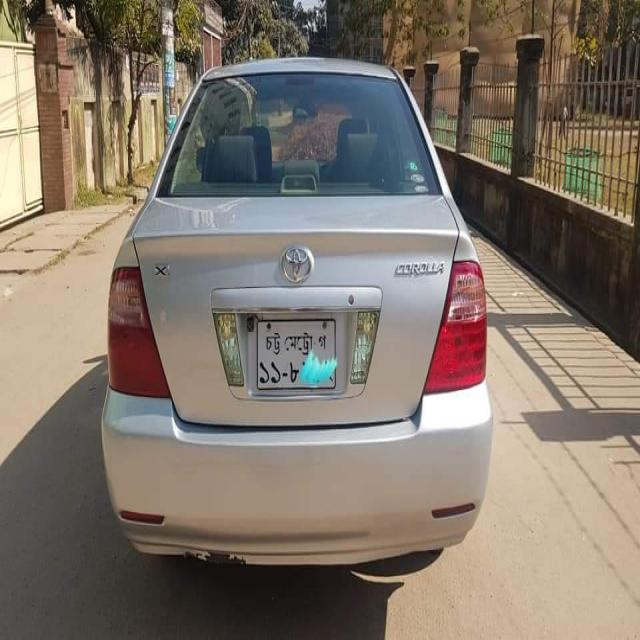silver: (97, 57, 497, 571)
